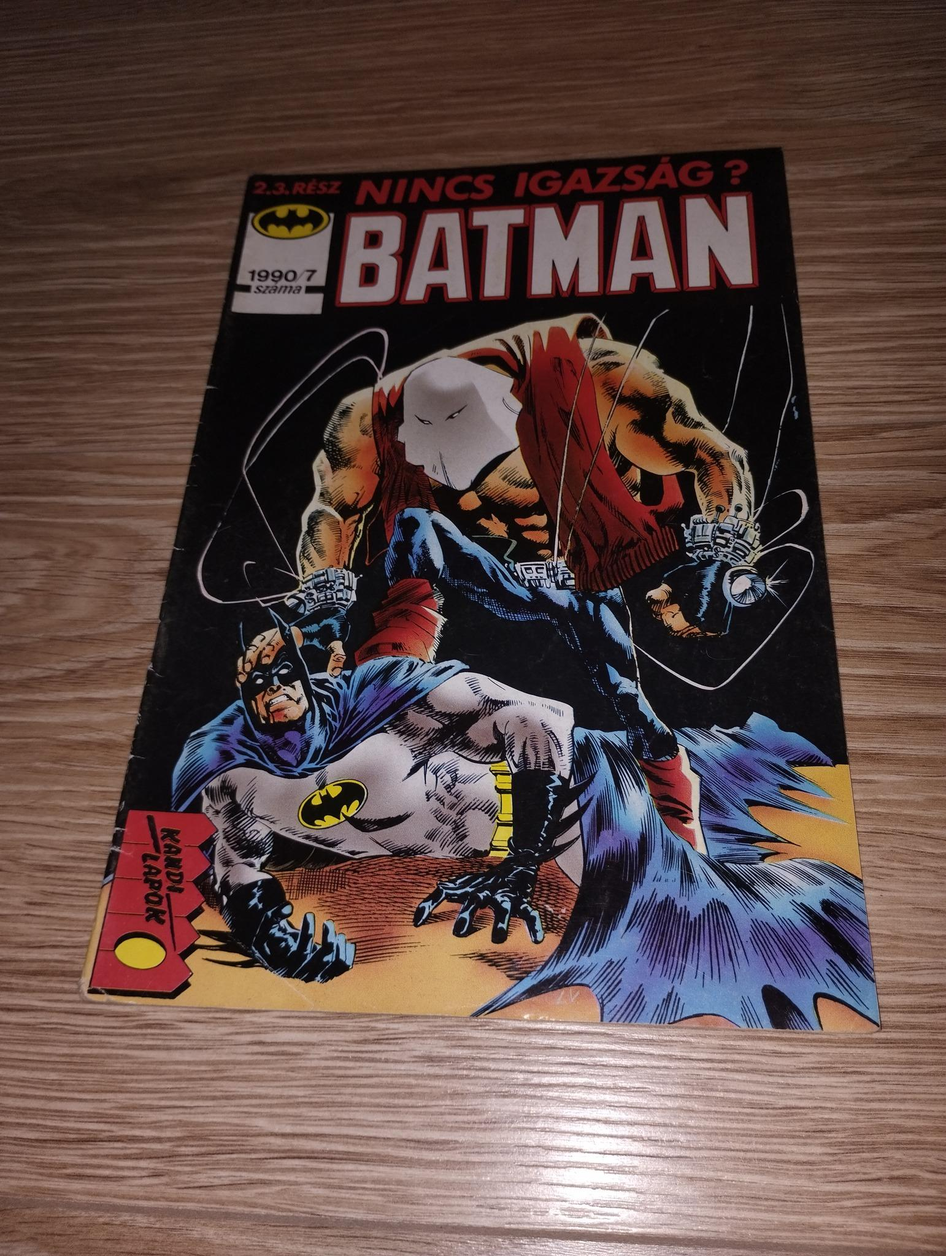comic: (83, 134, 898, 1030)
